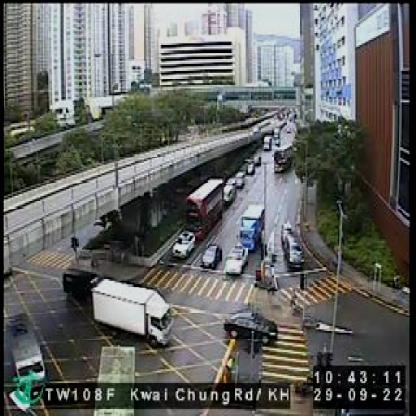Bus: (186, 177, 224, 239), (272, 142, 294, 177)
Car: (221, 310, 281, 345), (170, 227, 192, 260), (286, 235, 306, 268), (224, 243, 246, 272), (201, 243, 221, 270), (220, 182, 235, 205), (234, 170, 246, 191), (282, 219, 293, 240), (244, 160, 255, 175), (251, 149, 259, 163), (263, 134, 269, 149)
Truck: (92, 279, 176, 347), (0, 308, 53, 384), (84, 350, 136, 414), (238, 202, 262, 249)
